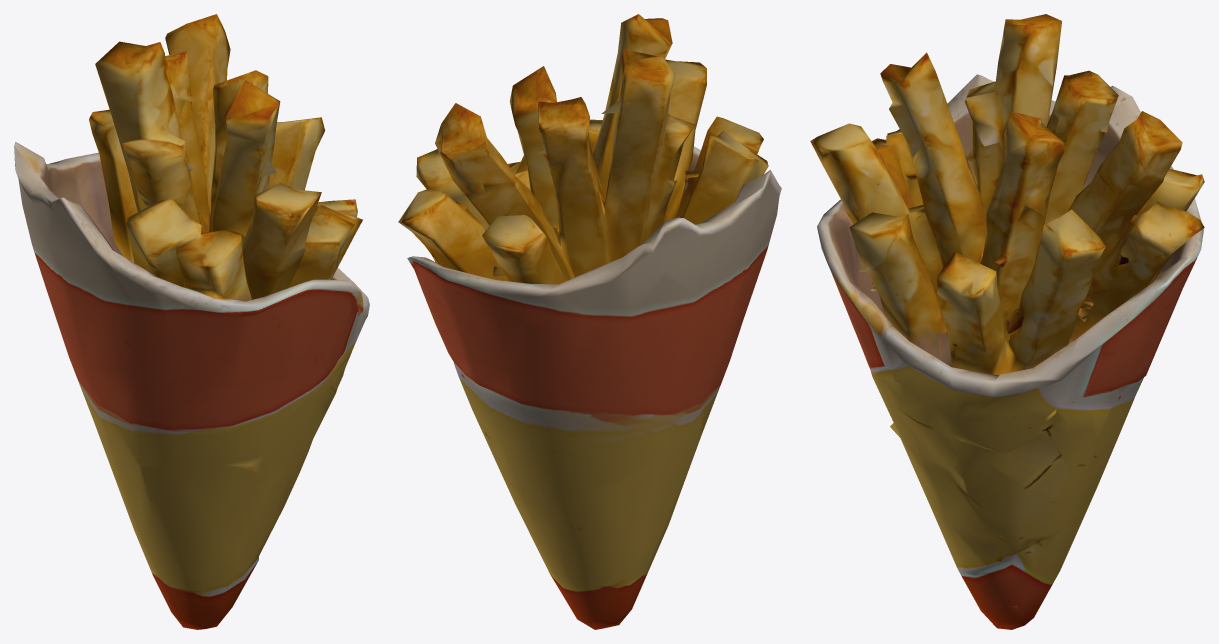
Rendered from patatas.glb.
3 views of the same model, side by side, from view 1: azimuth 30°, elevation 25°; view 2: azimuth 150°, elevation 25°; view 3: azimuth 270°, elevation 25° (orthographic).
Parts seen in each view (by area): view 1: tripo_node_c4cd4fdb-73ba-4097-82a6-5dd8930b7557; view 2: tripo_node_c4cd4fdb-73ba-4097-82a6-5dd8930b7557; view 3: tripo_node_c4cd4fdb-73ba-4097-82a6-5dd8930b7557.
Boxes of the visible parts, bbox=[...] form: tripo_node_c4cd4fdb-73ba-4097-82a6-5dd8930b7557: bbox=[14, 14, 369, 629]; tripo_node_c4cd4fdb-73ba-4097-82a6-5dd8930b7557: bbox=[398, 14, 781, 629]; tripo_node_c4cd4fdb-73ba-4097-82a6-5dd8930b7557: bbox=[810, 14, 1204, 629].
Size of the model in its own units: 0.54 by 0.9821 by 0.5976.
Materials: 1 (1 with a texture image).
